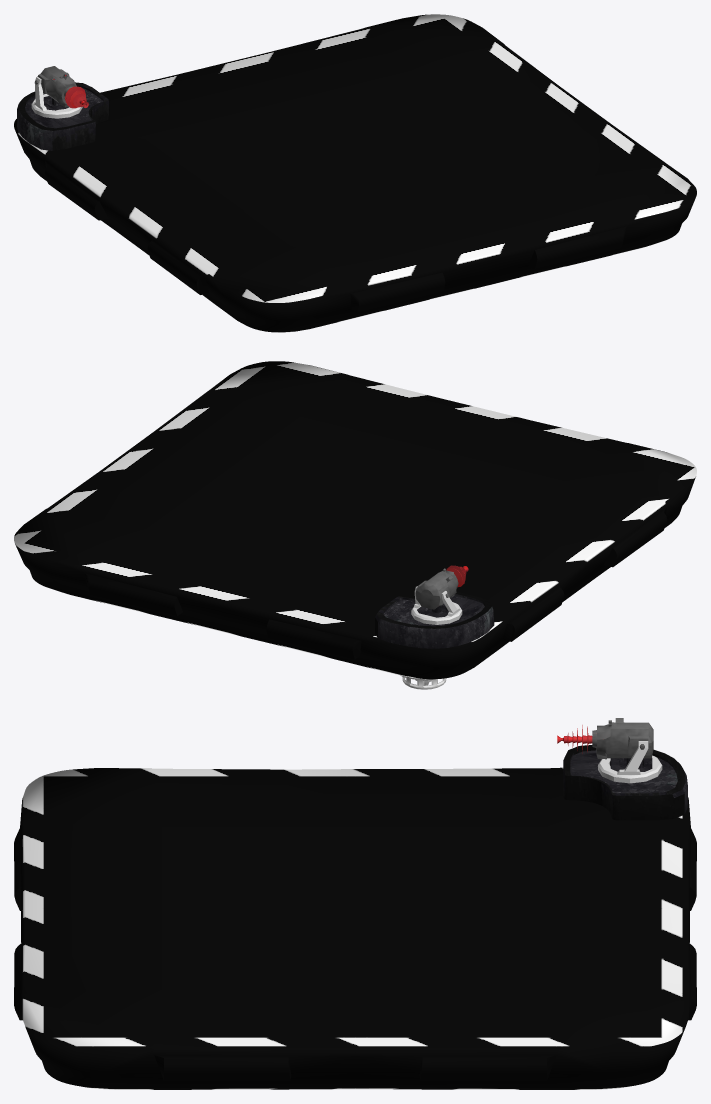
The model's file is FuturisticStage.fbx.
3 renders of one model, top to bottom at view 1: azimuth 30°, elevation 25°; view 2: azimuth 150°, elevation 25°; view 3: azimuth 270°, elevation 25°, orthographic. The views are drawn at different scales.
Parts seen in each view (by area): view 1: Stage, Stand, Turret_gun, Turret_leg; view 2: Stage, Stand, Turret_gun, Turret_leg; view 3: Stage, Stand, Turret_gun, Turret_leg.
Part boxes in pixels (<box>): Stage: <box>14,14,696,332</box>; Stand: <box>17,82,109,150</box>; Turret_gun: <box>35,66,88,108</box>; Turret_leg: <box>31,76,82,118</box>; Stage: <box>14,361,696,679</box>; Stand: <box>375,592,494,648</box>; Turret_gun: <box>415,565,468,609</box>; Turret_leg: <box>411,586,462,624</box>; Stage: <box>14,767,696,1089</box>; Stand: <box>563,745,687,820</box>; Turret_gun: <box>557,718,653,759</box>; Turret_leg: <box>598,741,662,783</box>.
Size of the model in its own units: 997 by 256 by 995.
Materials: 3 (3 with a texture image).
